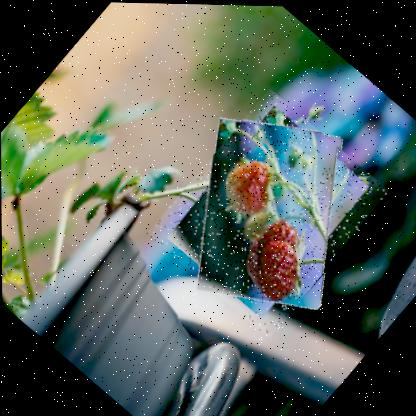strawberry: (146, 84, 394, 339)
